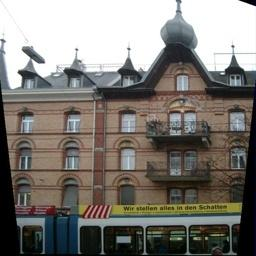building: (8, 0, 256, 255)
